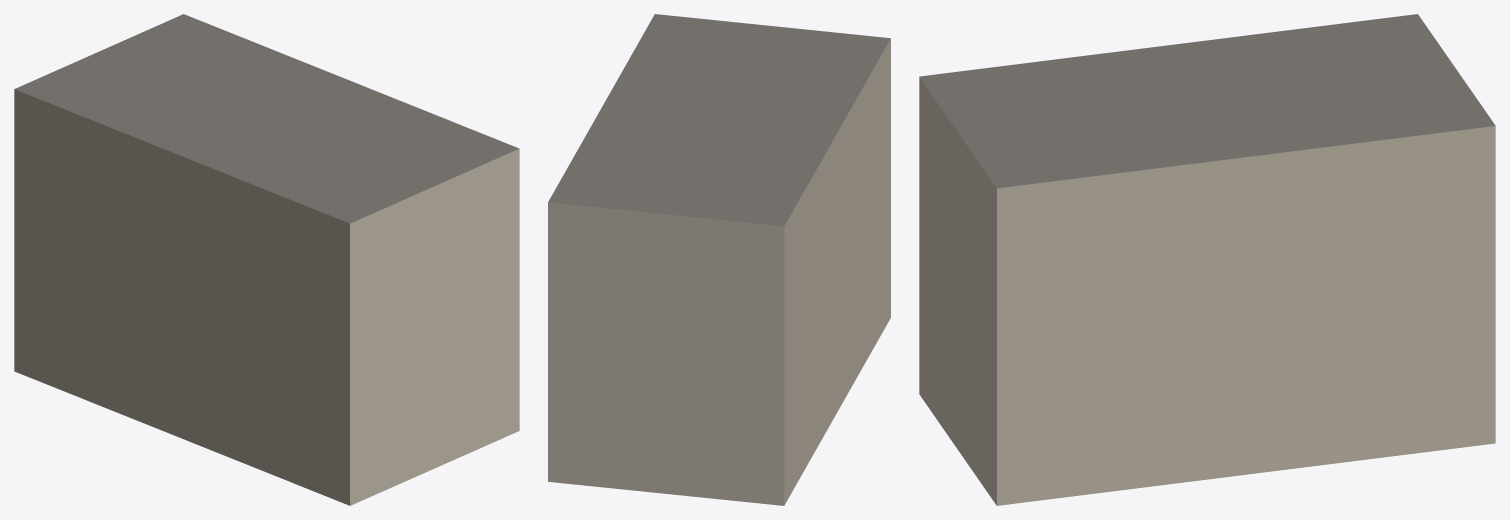
The picture shows the model from 3 angles, left to right: view 1: azimuth 30°, elevation 25°; view 2: azimuth 150°, elevation 25°; view 3: azimuth 270°, elevation 25°; orthographic projection. The views are drawn at different scales.
Parts seen in each view (by area): view 1: HP-w446933524; view 2: HP-w446933524; view 3: HP-w446933524.
Boxes of the visible parts, <box> form: HP-w446933524: <box>14,14,519,505</box>; HP-w446933524: <box>548,14,890,505</box>; HP-w446933524: <box>919,14,1495,505</box>.
Bounding box in the file's own units: 21.21 × 18 × 29.63.
